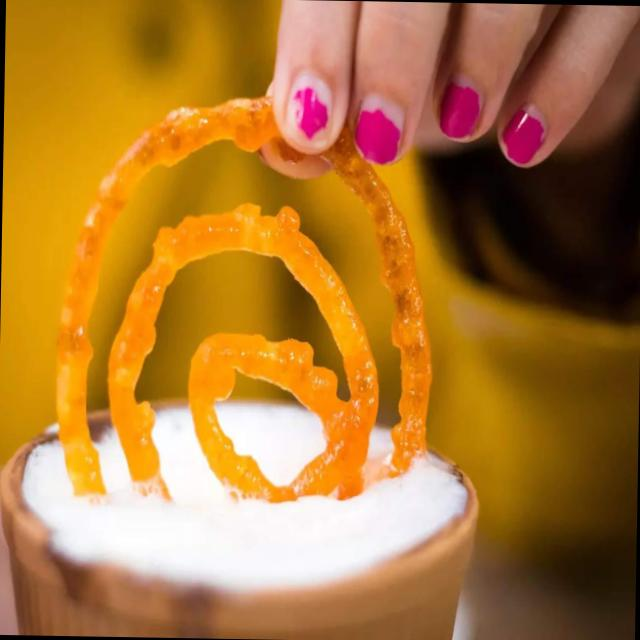jalebi: (57, 130, 414, 500)
